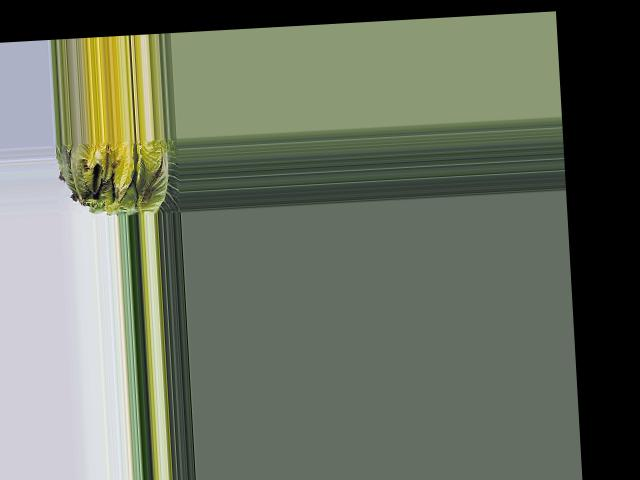lettuce: (59, 137, 180, 216)
